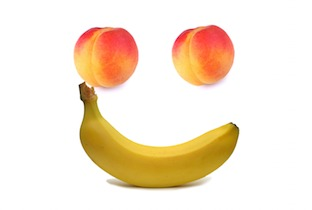banana: (74, 83, 243, 191)
